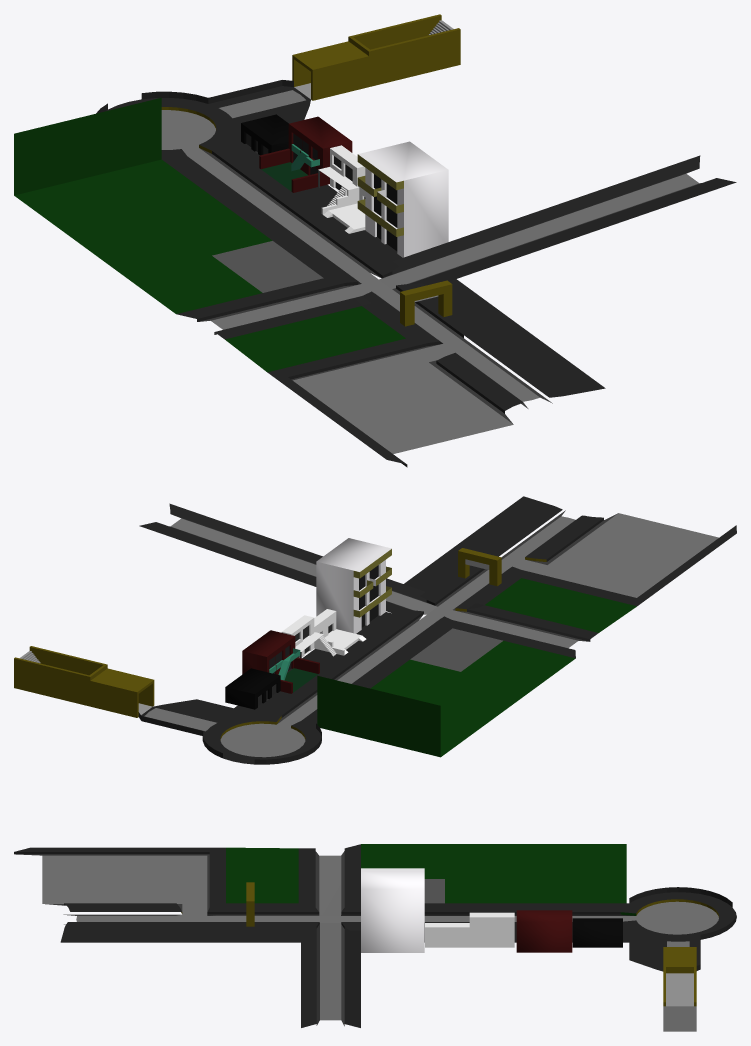
Rendered from Costanera + Regatas.fbx.
3 views of the same model, one above another, from view 1: azimuth 30°, elevation 25°; view 2: azimuth 150°, elevation 25°; view 3: azimuth 270°, elevation 25° (orthographic). The views are drawn at different scales.
Parts seen in each view (by area): view 1: Plane, Plane.004, Plane.002, Plane.003, Plane.001; view 2: Plane, Plane.004, Plane.002, Plane.003, Plane.001; view 3: Plane, Plane.004, Plane.003, Plane.002, Plane.001.
Boxes of the visible parts, bbox=[...] form: Plane: bbox=[14, 14, 736, 467]; Plane.004: bbox=[357, 141, 448, 257]; Plane.002: bbox=[259, 116, 352, 192]; Plane.003: bbox=[318, 145, 365, 233]; Plane.001: bbox=[241, 114, 288, 155]; Plane: bbox=[14, 496, 736, 764]; Plane.004: bbox=[316, 538, 391, 633]; Plane.002: bbox=[242, 630, 319, 693]; Plane.003: bbox=[281, 609, 366, 658]; Plane.001: bbox=[225, 668, 280, 709]; Plane: bbox=[14, 844, 736, 1031]; Plane.004: bbox=[361, 868, 424, 952]; Plane.003: bbox=[425, 912, 514, 947]; Plane.002: bbox=[516, 910, 572, 952]; Plane.001: bbox=[572, 918, 622, 947].
Bounding box in the file's own units: 17733 × 2621 × 25863.
